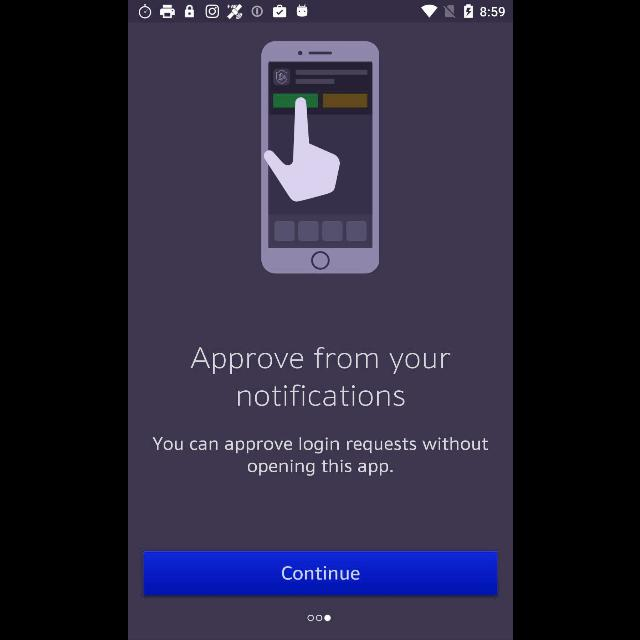image: (261, 42, 379, 274)
pageindicator: (306, 614, 330, 622)
text: (190, 348, 450, 407), (152, 436, 488, 476)
textbutton: (143, 551, 497, 595)
uppertaskbar: (128, 1, 512, 23)
